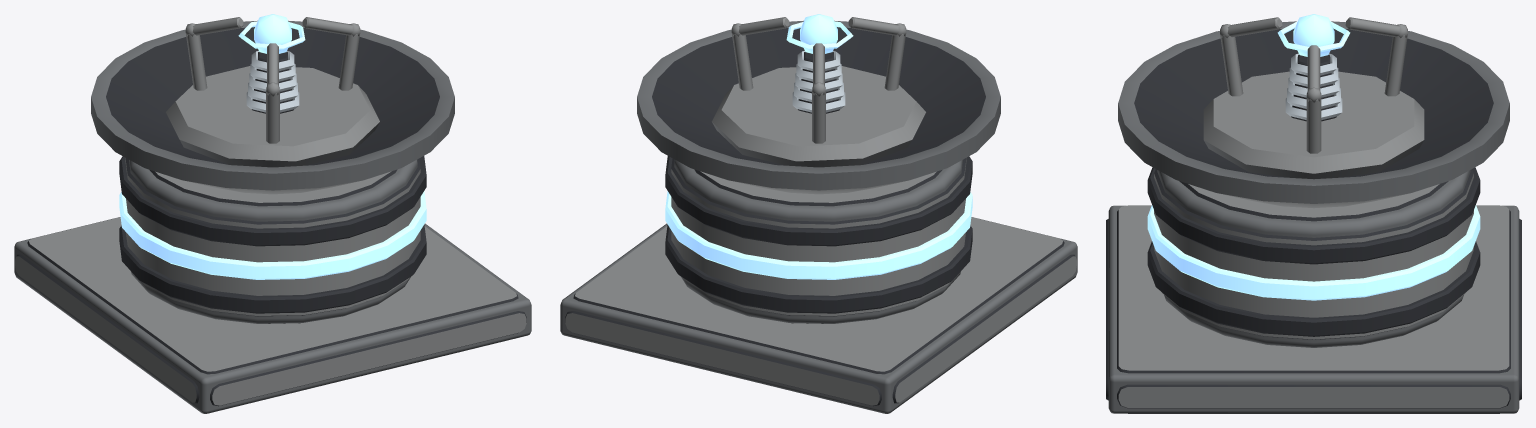
Rendered from R4X_EMPTrapDeployer.fbx.
The picture shows the model from 3 angles, left to right: view 1: azimuth 30°, elevation 25°; view 2: azimuth 150°, elevation 25°; view 3: azimuth 270°, elevation 25°; orthographic projection. The views are drawn at different scales.
Visible parts, largest first — view 1: R4X_EMPTrapDeployer_Body; view 2: R4X_EMPTrapDeployer_Body; view 3: R4X_EMPTrapDeployer_Body.
Part boxes in pixels (x1,y1,x2,y2): R4X_EMPTrapDeployer_Body: (14, 14, 531, 413); R4X_EMPTrapDeployer_Body: (560, 14, 1077, 413); R4X_EMPTrapDeployer_Body: (1106, 14, 1521, 413).
Size of the model in its own units: 0.52 by 0.437 by 0.52.
